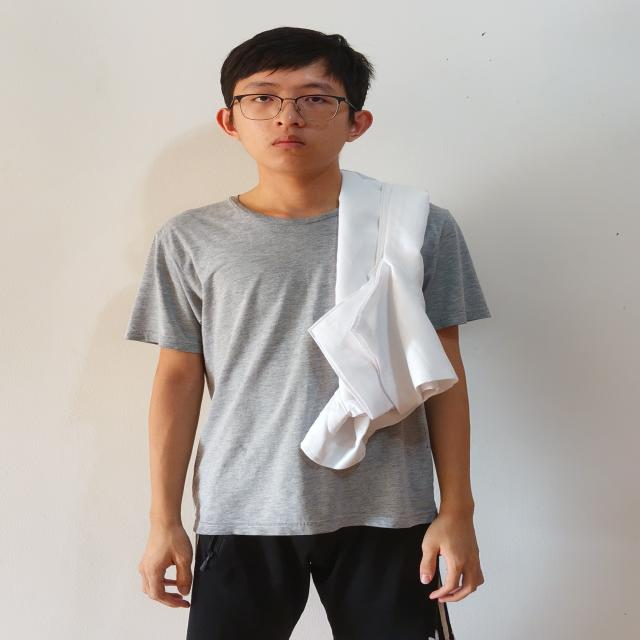person_without_labcoat: (126, 27, 489, 640)
